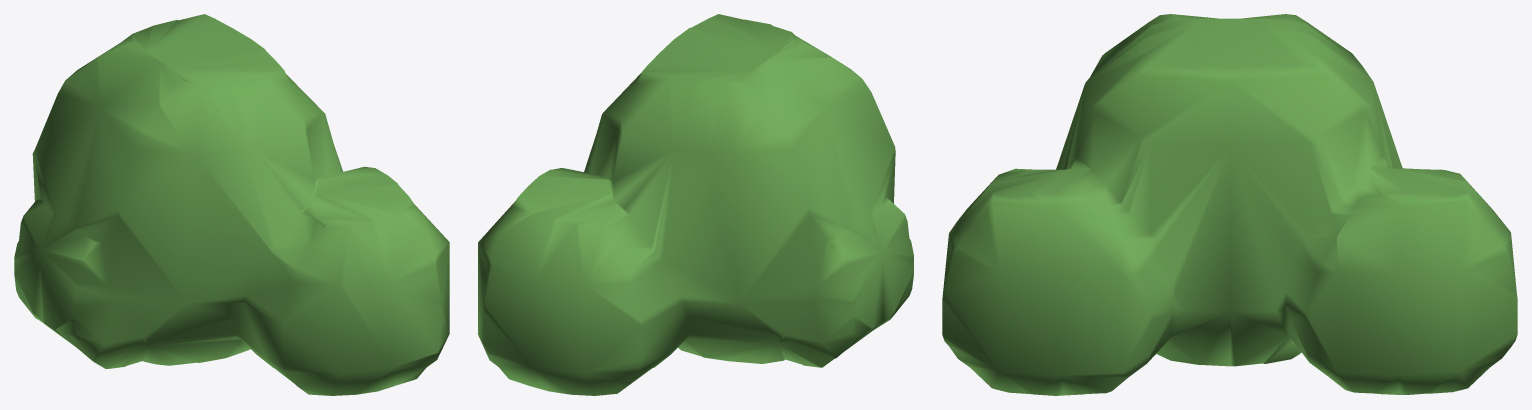
Rendered from bush.glb.
The picture shows the model from 3 angles, left to right: view 1: azimuth 30°, elevation 25°; view 2: azimuth 150°, elevation 25°; view 3: azimuth 270°, elevation 25°; orthographic projection. The views are drawn at different scales.
Visible parts, largest first — view 1: tripo_node_519257ad-8911-44b6-9f7a-19116853b466; view 2: tripo_node_519257ad-8911-44b6-9f7a-19116853b466; view 3: tripo_node_519257ad-8911-44b6-9f7a-19116853b466.
Boxes of the visible parts, x1,y1,x2,y2 form: tripo_node_519257ad-8911-44b6-9f7a-19116853b466: (14,14,449,395); tripo_node_519257ad-8911-44b6-9f7a-19116853b466: (478,14,913,395); tripo_node_519257ad-8911-44b6-9f7a-19116853b466: (942,14,1517,395).
Size of the model in its own units: 0.6582 by 0.5645 by 0.998.
Materials: 1 (1 with a texture image).
